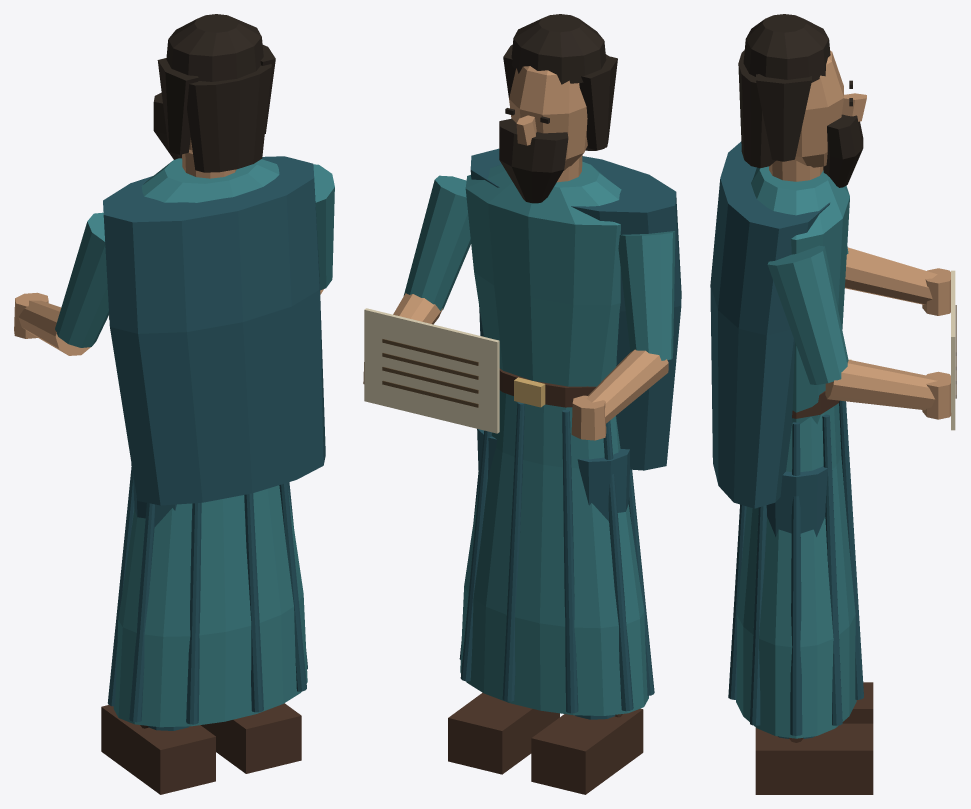
Rendered from odysseus.glb.
The picture shows the model from 3 angles, left to right: view 1: azimuth 30°, elevation 25°; view 2: azimuth 150°, elevation 25°; view 3: azimuth 270°, elevation 25°; orthographic projection. The views are drawn at different scales.
Parts seen in each view (by area): view 1: odysseus_mantle, odysseus_long_pleated_robe, odysseus_back_hair, odysseus_sandalL, odysseus_hair, odysseus_upper_armL, odysseus_sandalR, odysseus_torso, odysseus_robe_fold3, odysseus_side_hair-0.09, odysseus_robe_fold4, odysseus_robe_fold2 (+7 smaller); view 2: odysseus_long_pleated_robe, odysseus_torso, odysseus_letter_paper, odysseus_mantle, odysseus_sandalL, odysseus_upper_armL, odysseus_sandalR, odysseus_upper_armR, odysseus_hair, odysseus_face, odysseus_beard, odysseus_robe_fold6 (+11 smaller); view 3: odysseus_mantle, odysseus_long_pleated_robe, odysseus_sandalR, odysseus_torso, odysseus_upper_armR, odysseus_hair, odysseus_forearmR, odysseus_side_hair0.09, odysseus_forearmL, odysseus_face, odysseus_robe_fold0, odysseus_calfR (+13 smaller).
Part boxes in pixels (x1,y1,x2,y2): odysseus_mantle: (103,156,325,505); odysseus_long_pleated_robe: (113,485,307,727); odysseus_back_hair: (187,64,271,172); odysseus_sandalL: (101,705,215,794); odysseus_hair: (166,14,263,81); odysseus_upper_armL: (55,212,108,347); odysseus_sandalR: (201,703,301,773); odysseus_torso: (141,158,279,202); odysseus_robe_fold3: (186,503,201,724); odysseus_side_hair-0.09: (157,58,198,154); odysseus_robe_fold4: (129,503,154,722); odysseus_robe_fold2: (244,493,263,712); odysseus_long_pleated_robe: (460,390,648,715); odysseus_torso: (465,161,621,386); odysseus_letter_paper: (364,308,499,433); odysseus_mantle: (470,148,681,470); odysseus_sandalL: (531,708,643,794); odysseus_upper_armL: (618,231,675,360); odysseus_sandalR: (448,692,559,774); odysseus_upper_armR: (403,175,471,310); odysseus_hair: (511,14,606,84); odysseus_face: (509,66,587,170); odysseus_beard: (499,118,568,203); odysseus_robe_fold6: (562,410,578,713); odysseus_mantle: (710,141,830,508); odysseus_long_pleated_robe: (736,403,856,738); odysseus_sandalR: (755,723,873,794); odysseus_torso: (751,166,849,424); odysseus_upper_armR: (767,245,848,384); odysseus_hair: (743,14,830,82); odysseus_forearmR: (825,359,937,410); odysseus_side_hair0.09: (756,74,811,161); odysseus_forearmL: (845,247,937,304); odysseus_face: (794,50,843,167); odysseus_robe_fold0: (790,422,802,735); odysseus_calfR: (766,466,828,738).
Size of the model in its own units: 0.6366 by 1.66 by 0.502.
